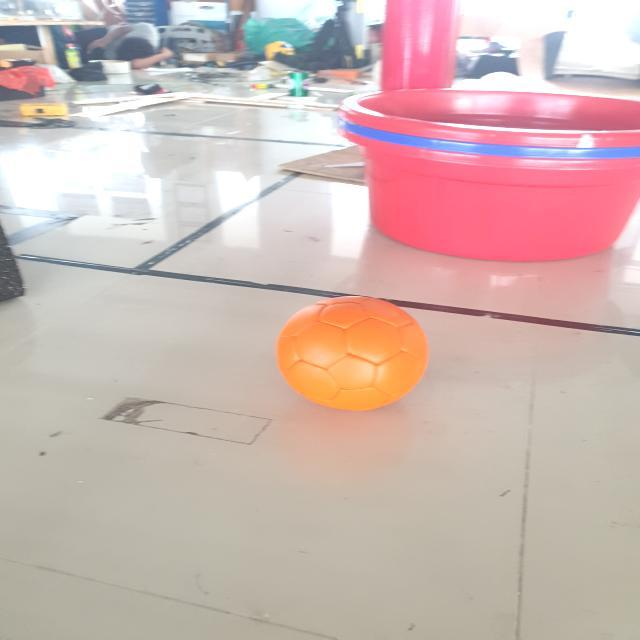bola: (274, 296, 436, 412)
